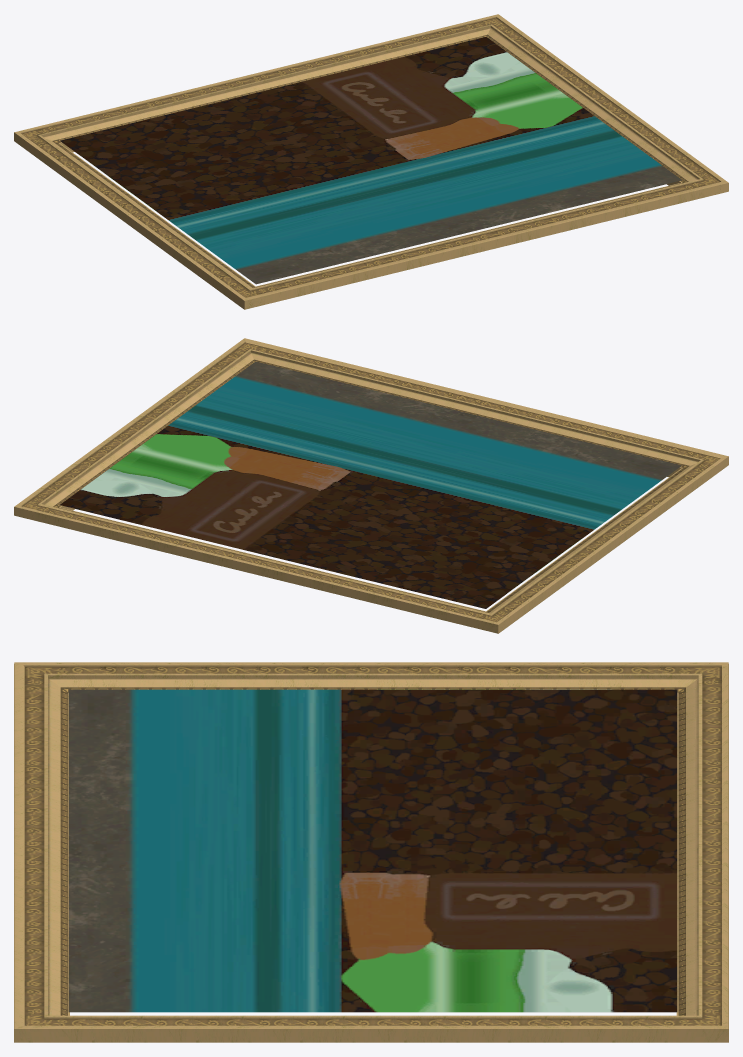
Rendered from art25.fbx.
The picture shows the model from 3 angles, top to bottom: view 1: azimuth 30°, elevation 25°; view 2: azimuth 150°, elevation 25°; view 3: azimuth 270°, elevation 25°; orthographic projection. The views are drawn at different scales.
Visible parts, largest first — view 1: LibertyLeading__mBody, FrameGold0_low1__mFrameGold0.002; view 2: LibertyLeading__mBody, FrameGold0_low1__mFrameGold0.002; view 3: LibertyLeading__mBody, FrameGold0_low1__mFrameGold0.002.
Boxes of the visible parts, x1,y1,x2,y2 form: LibertyLeading__mBody: (60, 37, 681, 284); FrameGold0_low1__mFrameGold0.002: (14, 14, 728, 309); LibertyLeading__mBody: (60, 361, 681, 608); FrameGold0_low1__mFrameGold0.002: (14, 338, 728, 633); LibertyLeading__mBody: (68, 689, 677, 1012); FrameGold0_low1__mFrameGold0.002: (14, 662, 728, 1042).
Size of the model in its own units: 1782 by 63.65 by 1468.
